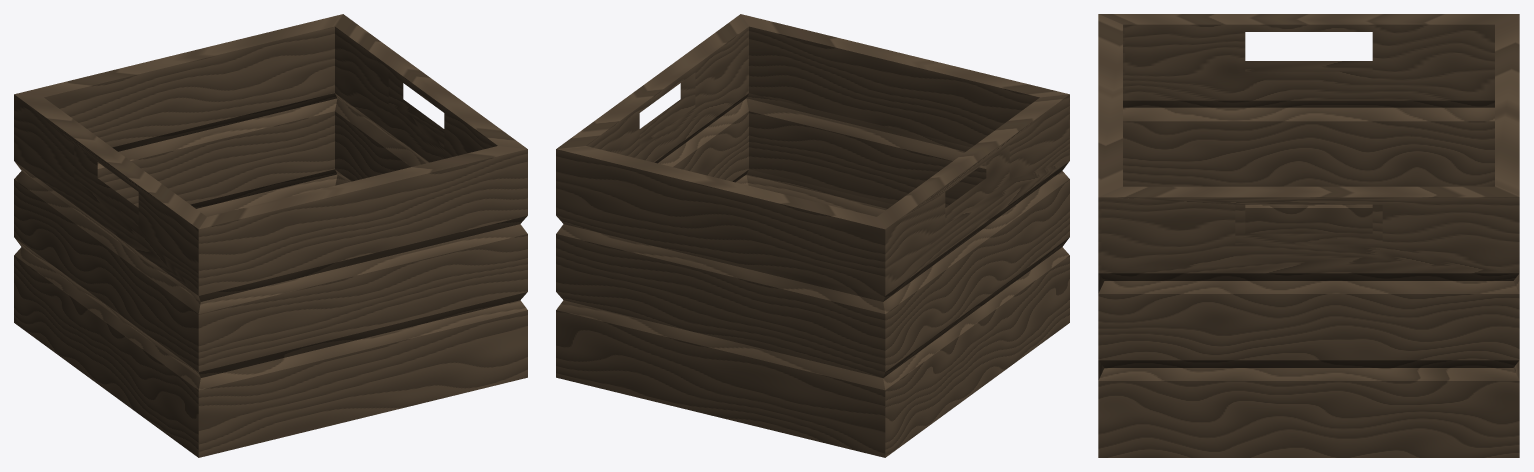
3 views of the same model, side by side, from view 1: azimuth 30°, elevation 25°; view 2: azimuth 150°, elevation 25°; view 3: azimuth 270°, elevation 25° (orthographic). The views are drawn at different scales.
Parts seen in each view (by area): view 1: Cube.011; view 2: Cube.011; view 3: Cube.011.
Part boxes in pixels (left/top/right/bottom): Cube.011: left=14, top=14, right=527, bottom=457; Cube.011: left=556, top=14, right=1069, bottom=457; Cube.011: left=1098, top=14, right=1519, bottom=457.
Bounding box in the file's own units: 53 × 35.17 × 51.47.
Materials: 1 (1 with a texture image).
